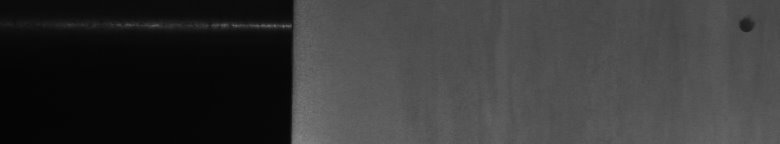fi: (736, 12, 759, 40)
